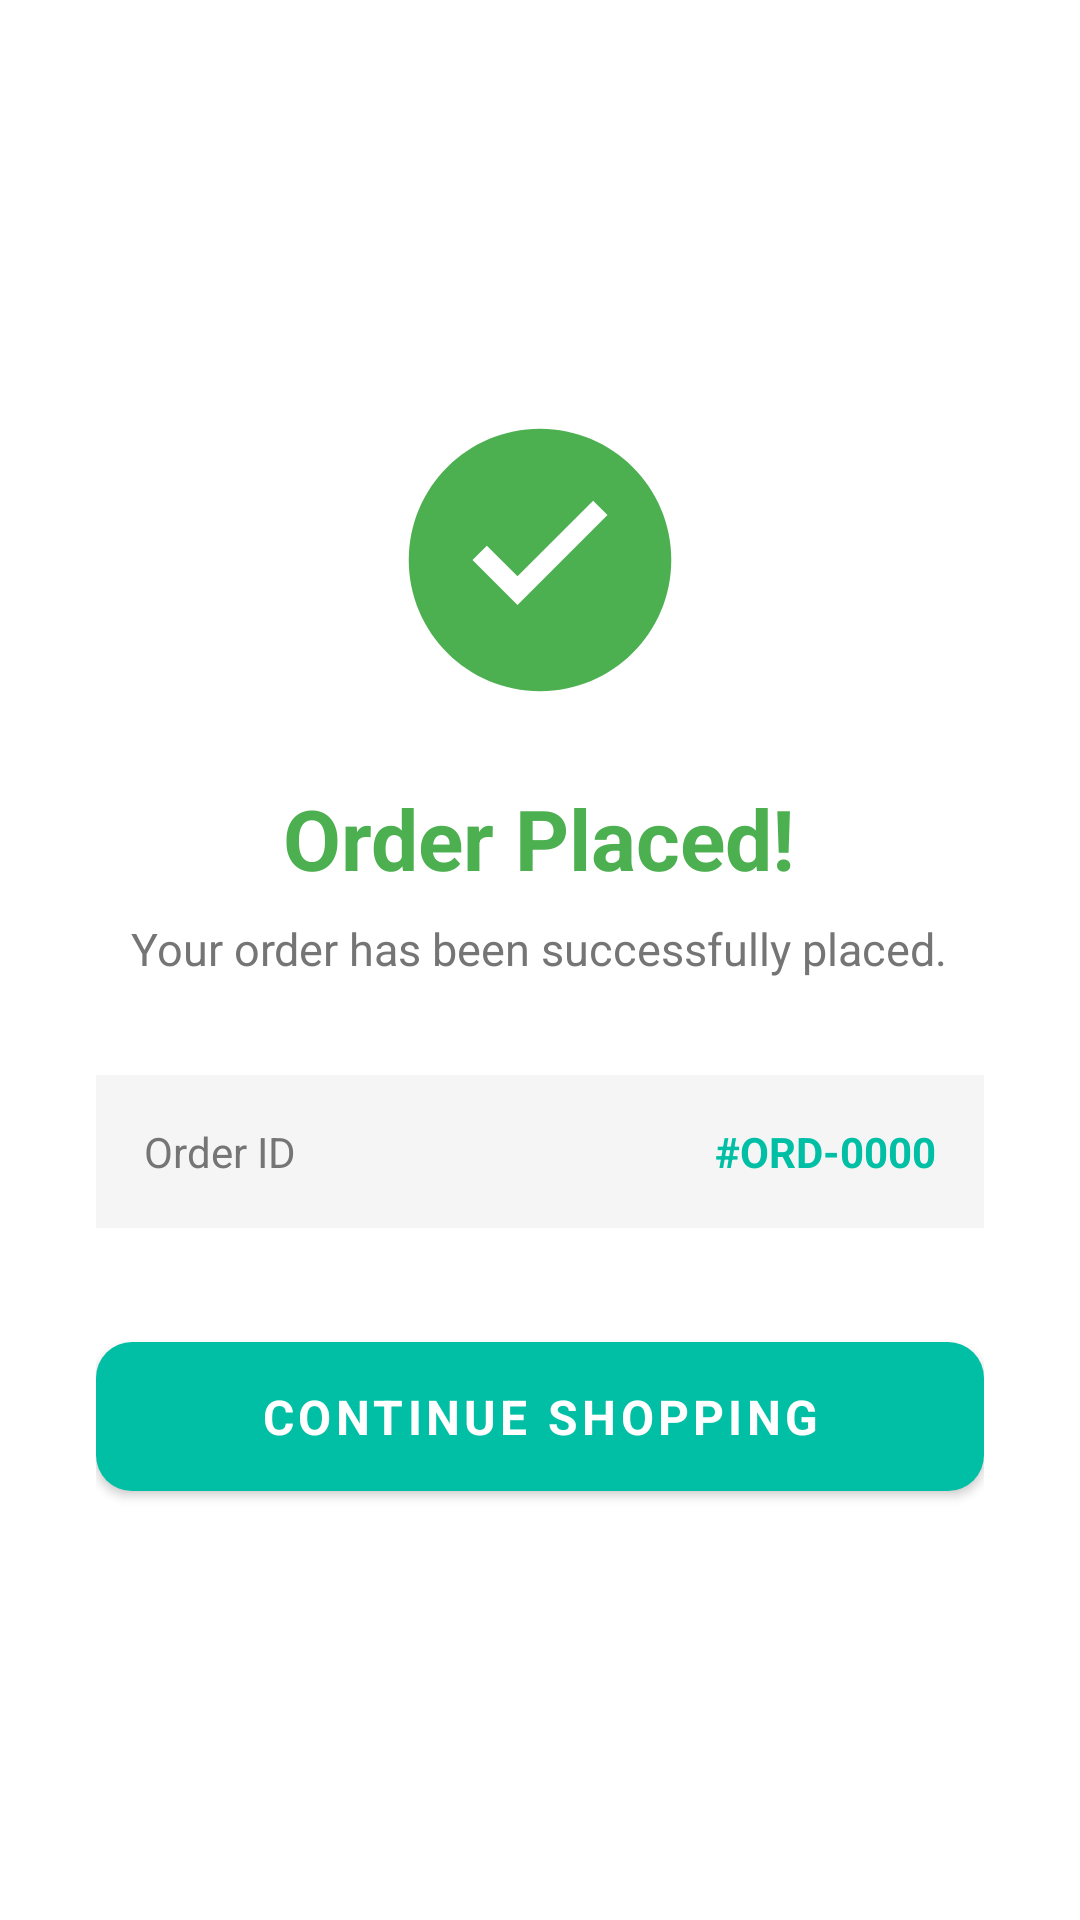

Icons on this 1080x1920 Android screen, each with its box as (x1, y1, x2, y2):
Order success icon: (408, 428, 672, 692)
